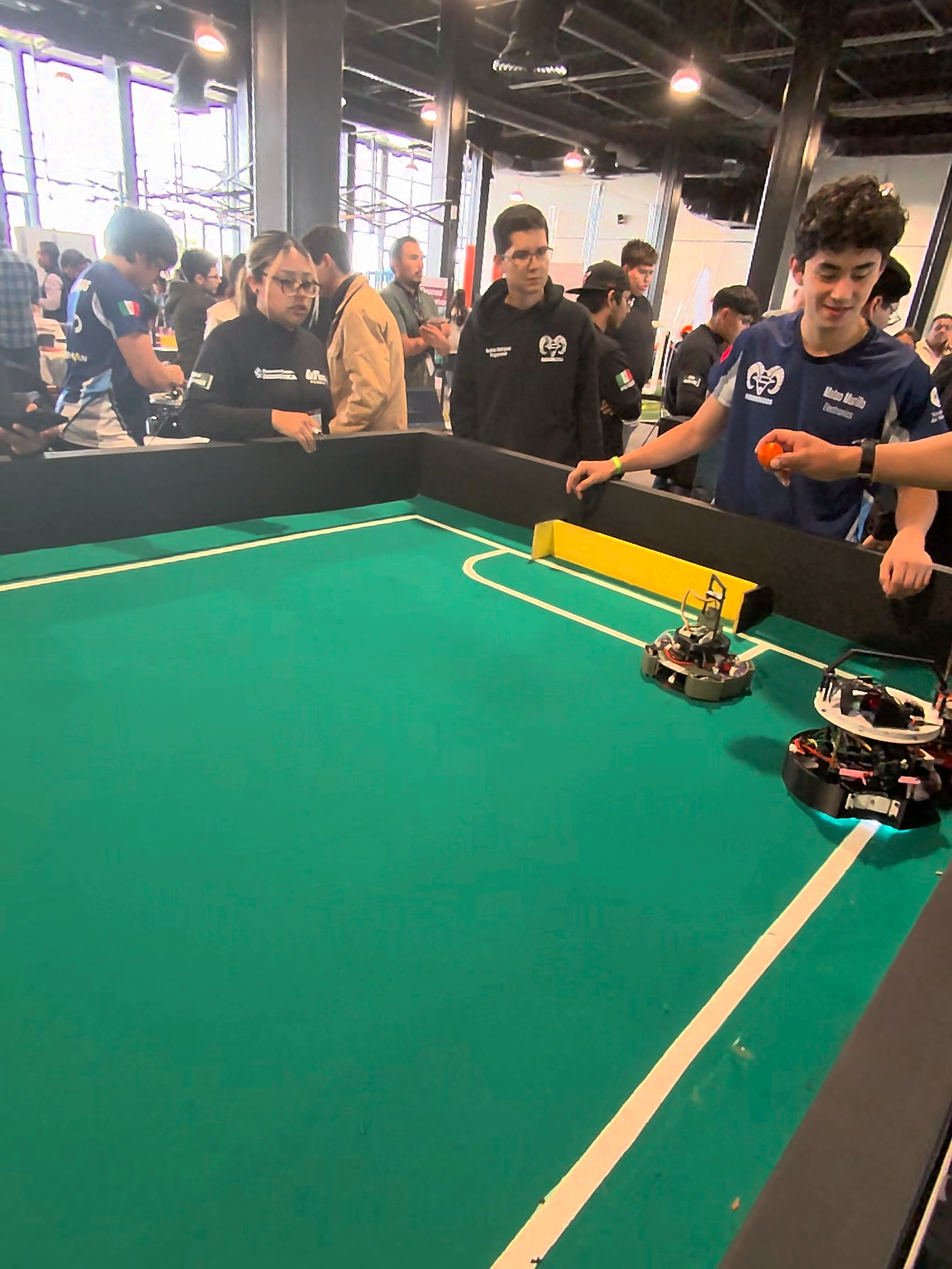Robot: (783, 641, 947, 849), (636, 566, 750, 707)
